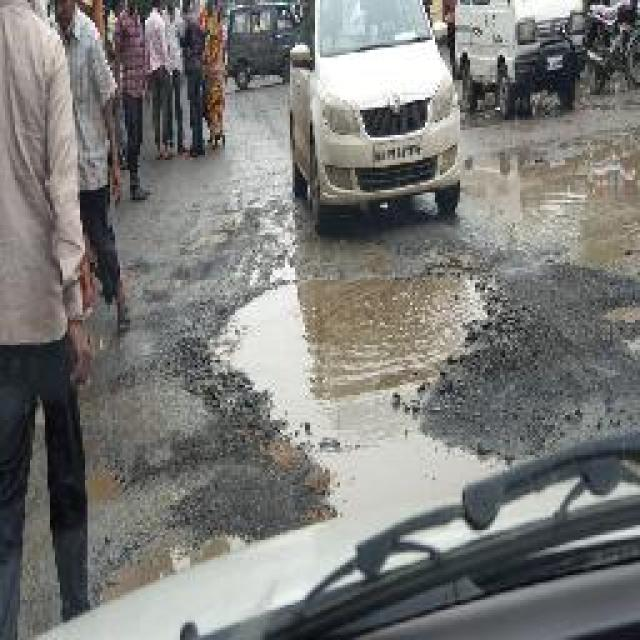stagnation: (217, 288, 507, 520)
